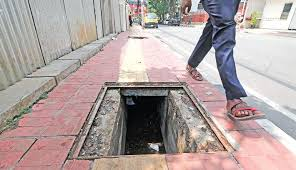Manhole-Open: (87, 75, 216, 162)
human: (184, 1, 272, 127)
